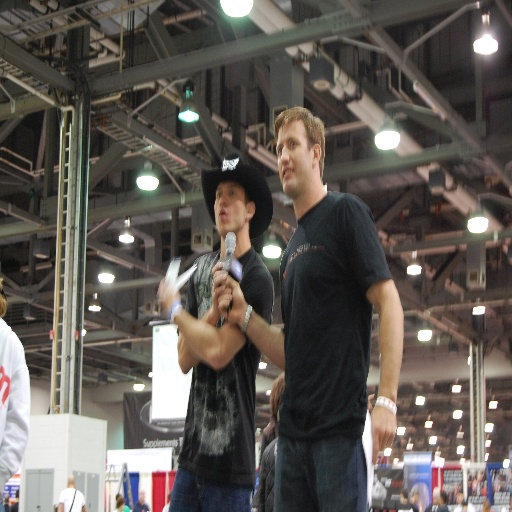hand: (218, 273, 246, 326), (370, 406, 395, 464), (155, 272, 180, 317), (210, 259, 228, 317)
